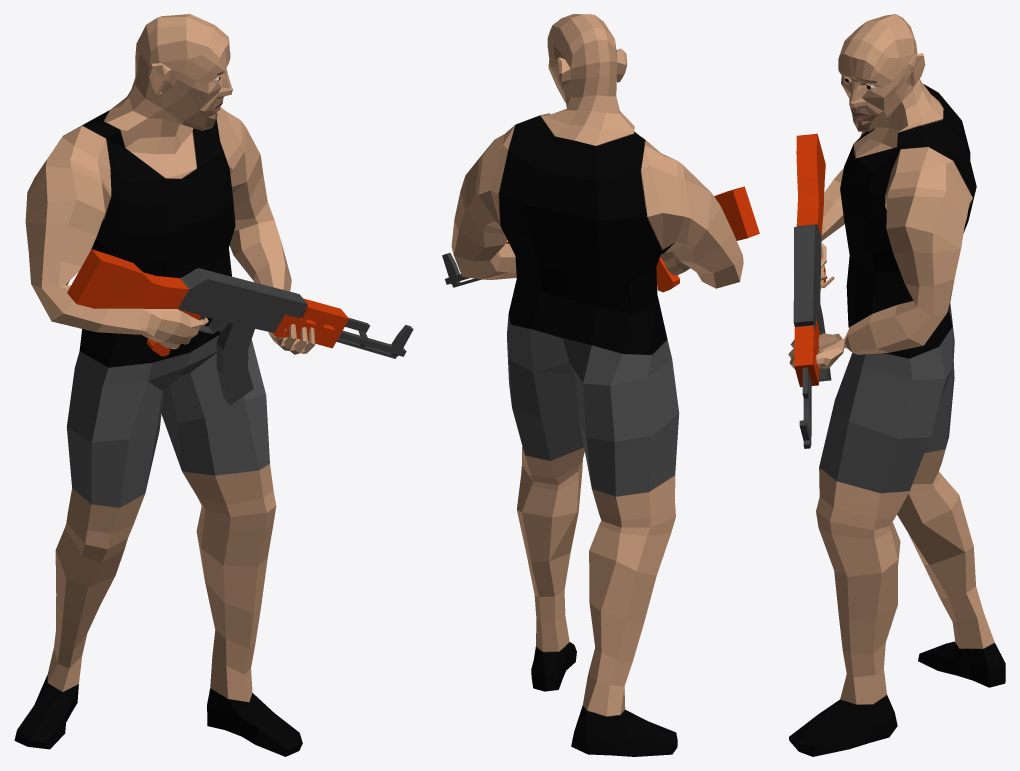
The model's file is PlayerIdle(140).obj.
3 renders of one model, left to right at view 1: azimuth 30°, elevation 25°; view 2: azimuth 150°, elevation 25°; view 3: azimuth 270°, elevation 25°, orthographic. The views are drawn at different scales.
Parts seen in each view (by area): view 1: Plane002, Object001; view 2: Plane002, Object001; view 3: Plane002, Object001.
Boxes of the visible parts, box(x1,y1,x2,y2) form: Plane002: box(14, 14, 330, 756); Object001: box(67, 249, 413, 405); Plane002: box(451, 14, 743, 756); Object001: box(442, 186, 759, 292); Plane002: box(788, 14, 1005, 756); Object001: box(793, 133, 831, 448).
Bounding box in the file's own units: 894 × 1791 × 506.
